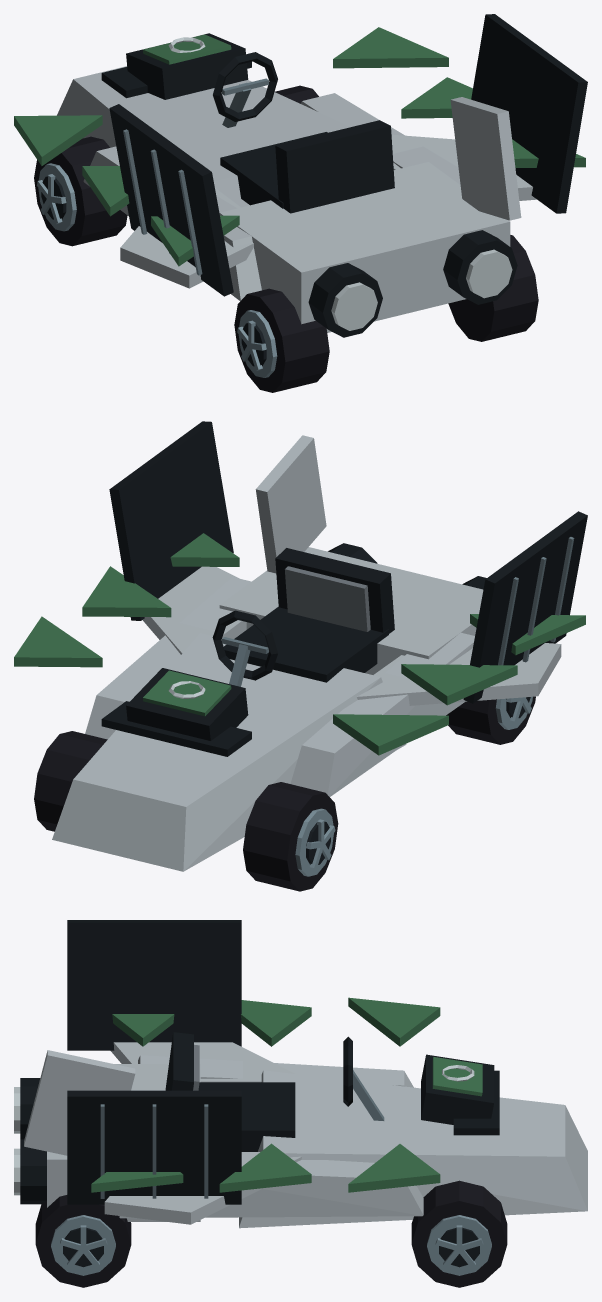
Rendered from kart.glb.
3 renders of one model, top to bottom at view 1: azimuth 30°, elevation 25°; view 2: azimuth 150°, elevation 25°; view 3: azimuth 270°, elevation 25°, orthographic. The views are drawn at different scales.
Parts seen in each view (by area): view 1: identity-shuttle-shuttle-flight-planform, identity-shuttle-motif-solar-panels, identity-shuttle-driver-cockpit, identity-shuttle-motif-leaves, wheel-rear-left, wheel-front-left, identity-shuttle-motif-scanner, wheel-rear-right; view 2: identity-shuttle-shuttle-flight-planform, identity-shuttle-motif-solar-panels, identity-shuttle-driver-cockpit, identity-shuttle-motif-leaves, wheel-front-left, identity-shuttle-motif-scanner, wheel-front-right, wheel-rear-left; view 3: identity-shuttle-shuttle-flight-planform, identity-shuttle-motif-solar-panels, identity-shuttle-motif-leaves, wheel-front-right, wheel-rear-right, identity-shuttle-driver-cockpit, identity-shuttle-motif-scanner.
Boxes of the visible parts, left/top/right/bottom form: identity-shuttle-shuttle-flight-planform: left=57, top=61, right=536, bottom=337; identity-shuttle-motif-solar-panels: left=109, top=14, right=587, bottom=296; identity-shuttle-driver-cockpit: left=213, top=52, right=394, bottom=213; identity-shuttle-motif-leaves: left=14, top=27, right=585, bottom=266; wheel-rear-left: left=234, top=288, right=329, bottom=392; wheel-front-left: left=34, top=136, right=127, bottom=246; identity-shuttle-motif-scanner: left=126, top=33, right=248, bottom=99; wheel-rear-right: left=448, top=235, right=538, bottom=341; identity-shuttle-shuttle-flight-planform: left=52, top=435, right=561, bottom=871; identity-shuttle-motif-solar-panels: left=109, top=421, right=587, bottom=703; identity-shuttle-driver-cockpit: left=212, top=548, right=394, bottom=686; identity-shuttle-motif-leaves: left=14, top=533, right=585, bottom=755; wheel-front-left: left=243, top=782, right=338, bottom=891; identity-shuttle-motif-scanner: left=126, top=668, right=248, bottom=740; wheel-front-right: left=34, top=731, right=107, bottom=831; wheel-rear-left: left=446, top=696, right=535, bottom=744; identity-shuttle-shuttle-flight-planform: left=14, top=1042, right=587, bottom=1228; identity-shuttle-motif-solar-panels: left=67, top=920, right=241, bottom=1204; identity-shuttle-motif-leaves: left=91, top=997, right=440, bottom=1192; wheel-front-right: left=411, top=1180, right=507, bottom=1287; wheel-rear-right: left=35, top=1195, right=131, bottom=1287; identity-shuttle-driver-cockpit: left=165, top=1032, right=384, bottom=1151; identity-shuttle-motif-scanner: left=421, top=1054, right=494, bottom=1124.
Size of the model in its own units: 2.36 by 1.28 by 2.99.
